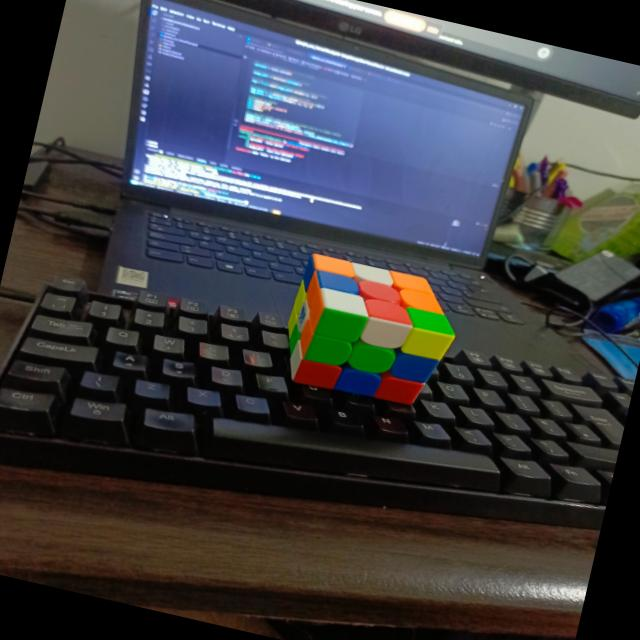rubik: (272, 247, 468, 416)
